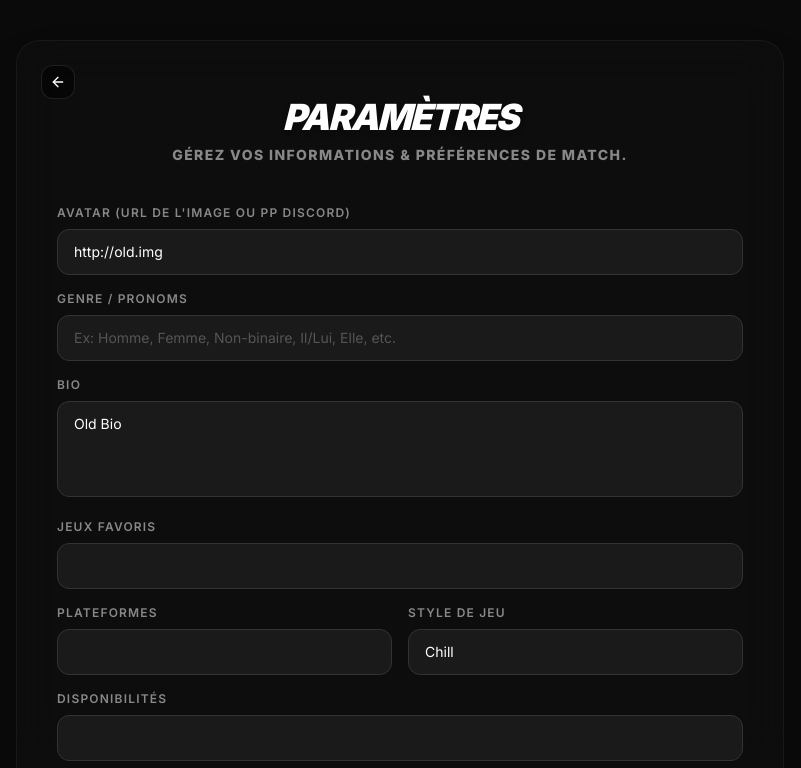
Scenario: Settings Component › updates profile on save
This screenshot has width=801, height=768.
# Find Avatar input
Replace the text in the field with placeholder "https://... (Lien vers une image ou avatar Discord)" below "Avatar (URL de l'image ou PP Discord)" with "http://new.img": (400, 252) 57,229 -> 743,275
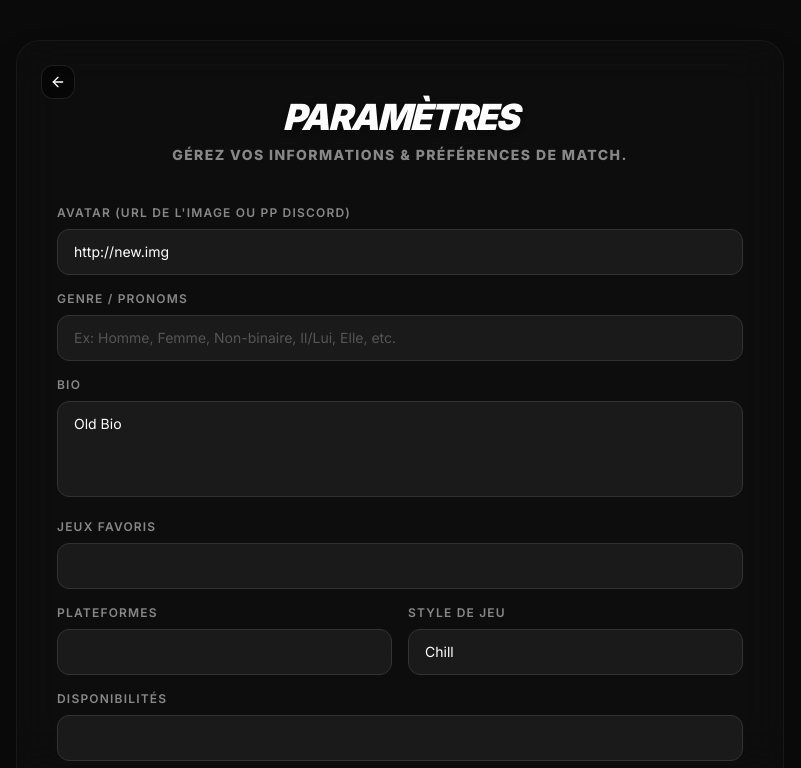
# Find Bio textarea
Replace the text in the text box showing "Old Bio" with "New Bio": (400, 449) 57,401 -> 743,497
(page scrolled)
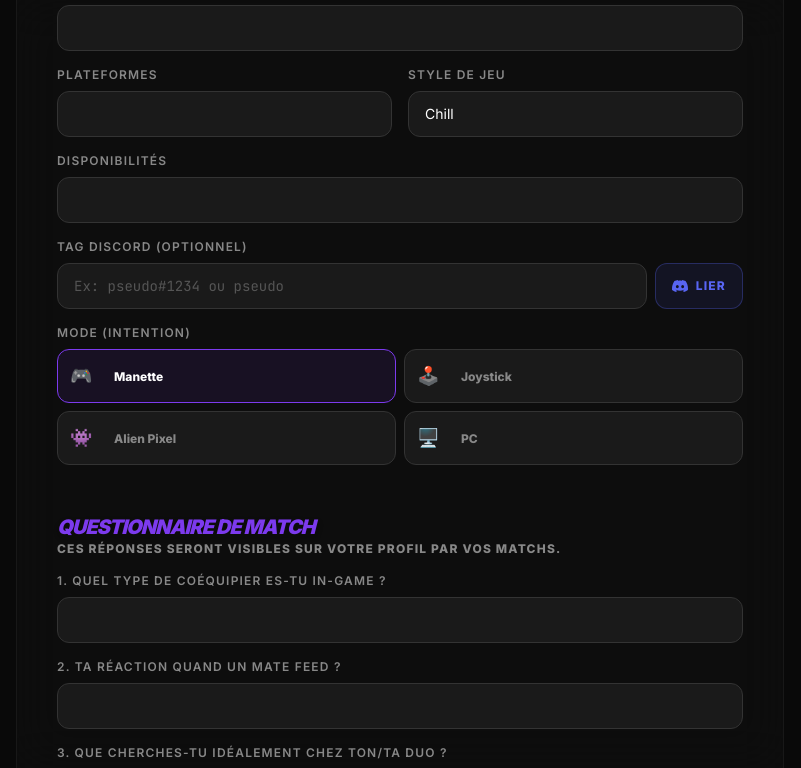
Submit the form with placeholder "Lien vers une image ou avatar Discord"
(page scrolled)
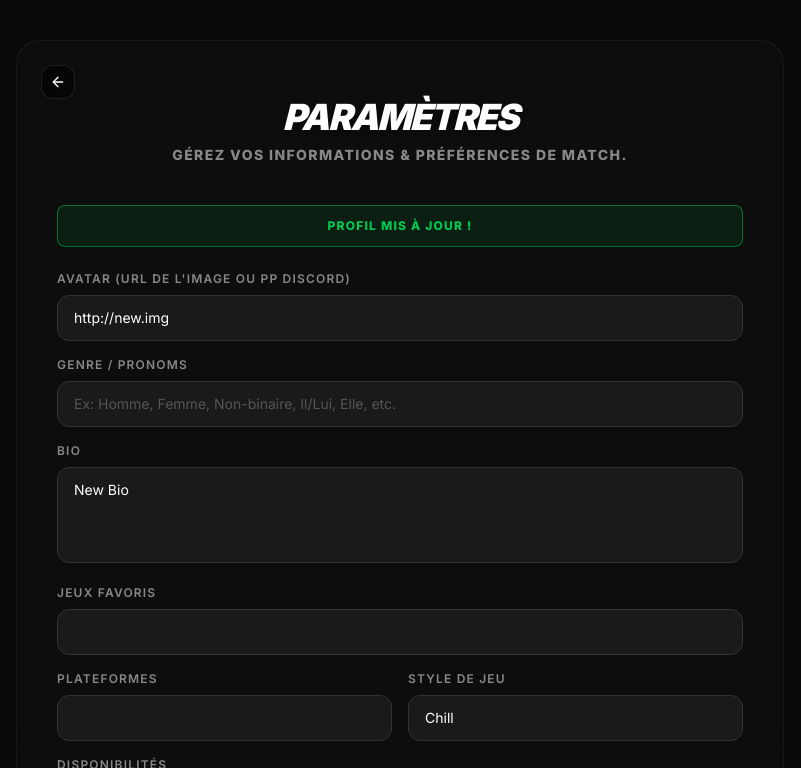
Result: the text "Profil mis à jour !" is shown at 57,205 -> 743,247
